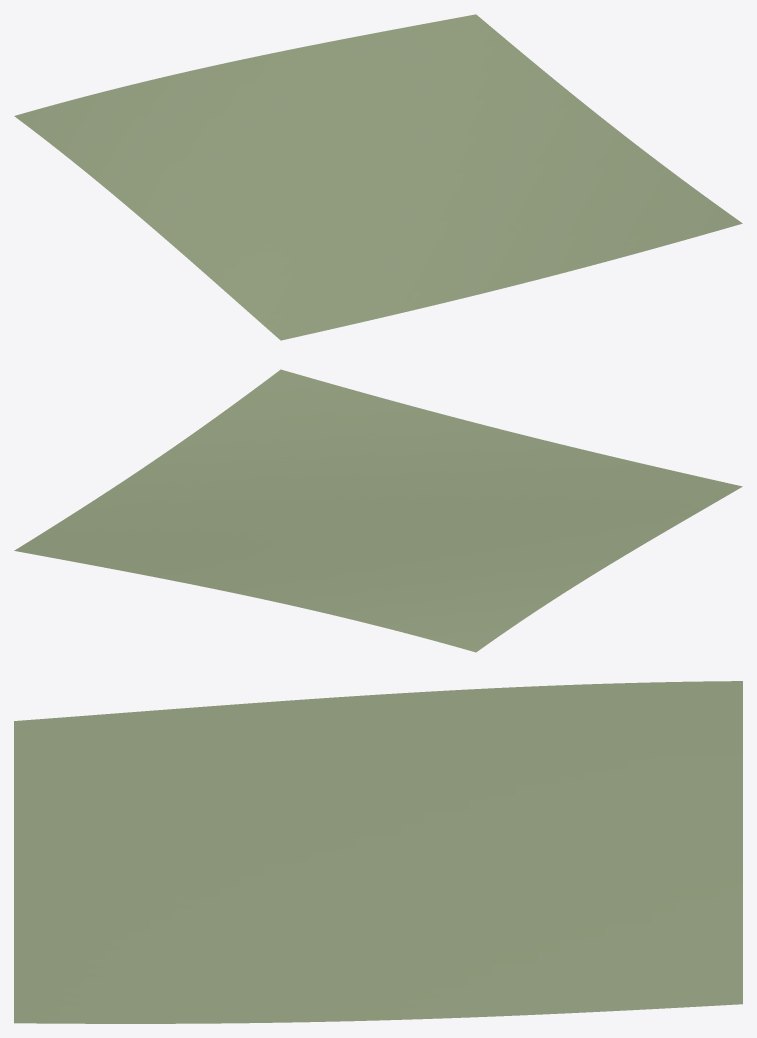
File: alpine-1-10.glb
3 views of the same model, one above another, from view 1: azimuth 30°, elevation 25°; view 2: azimuth 150°, elevation 25°; view 3: azimuth 270°, elevation 25° (orthographic). The views are drawn at different scales.
Visible parts, largest first — view 1: alpine-1-10; view 2: alpine-1-10; view 3: alpine-1-10.
Boxes of the visible parts, x1=… form: alpine-1-10: x1=14, y1=14, x2=742, y2=340; alpine-1-10: x1=14, y1=369, x2=742, y2=652; alpine-1-10: x1=14, y1=681, x2=742, y2=1023.
Size of the model in its own units: 256 by 18.01 by 256.
